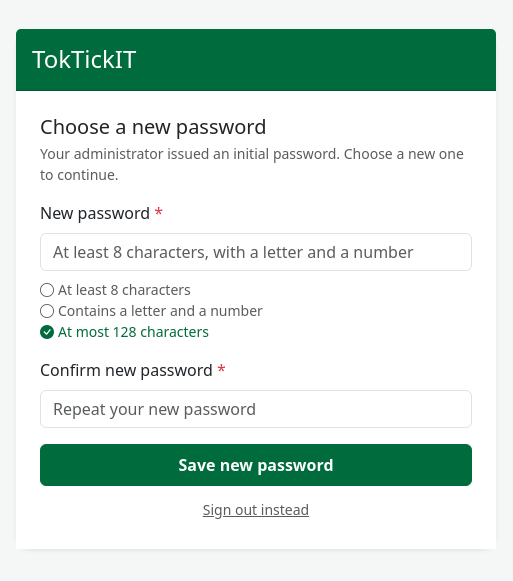
ChangePassword (lab-03) › rejects passwords without a letter and a number
Type "passwordonly" into the password field labelled "New password *" at (256, 252), box [40,233,472,271]
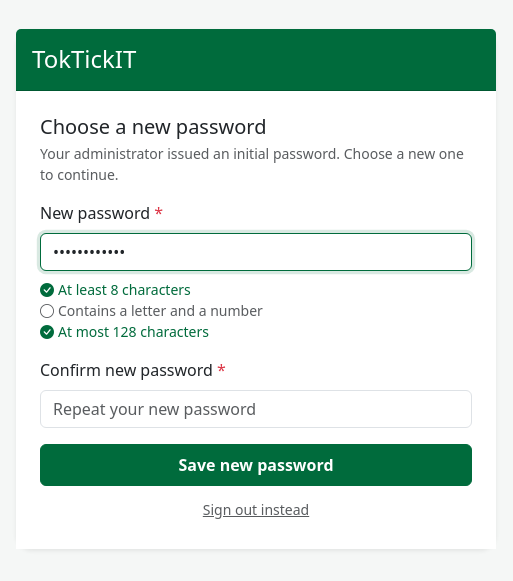
Type "passwordonly" into the password field labelled "Confirm new password *" at (256, 409), box [40,390,472,428]
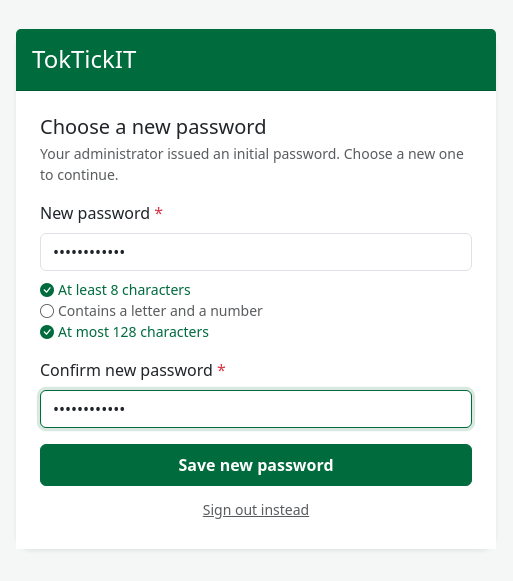
Click the button "Save new password" at (256, 465), box [40,444,472,486]
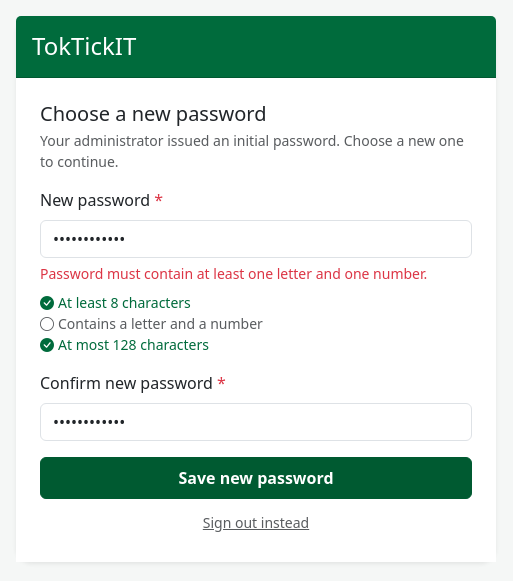
Now the text "Password must contain at least one letter and one number." is shown, box [40,263,472,284]
